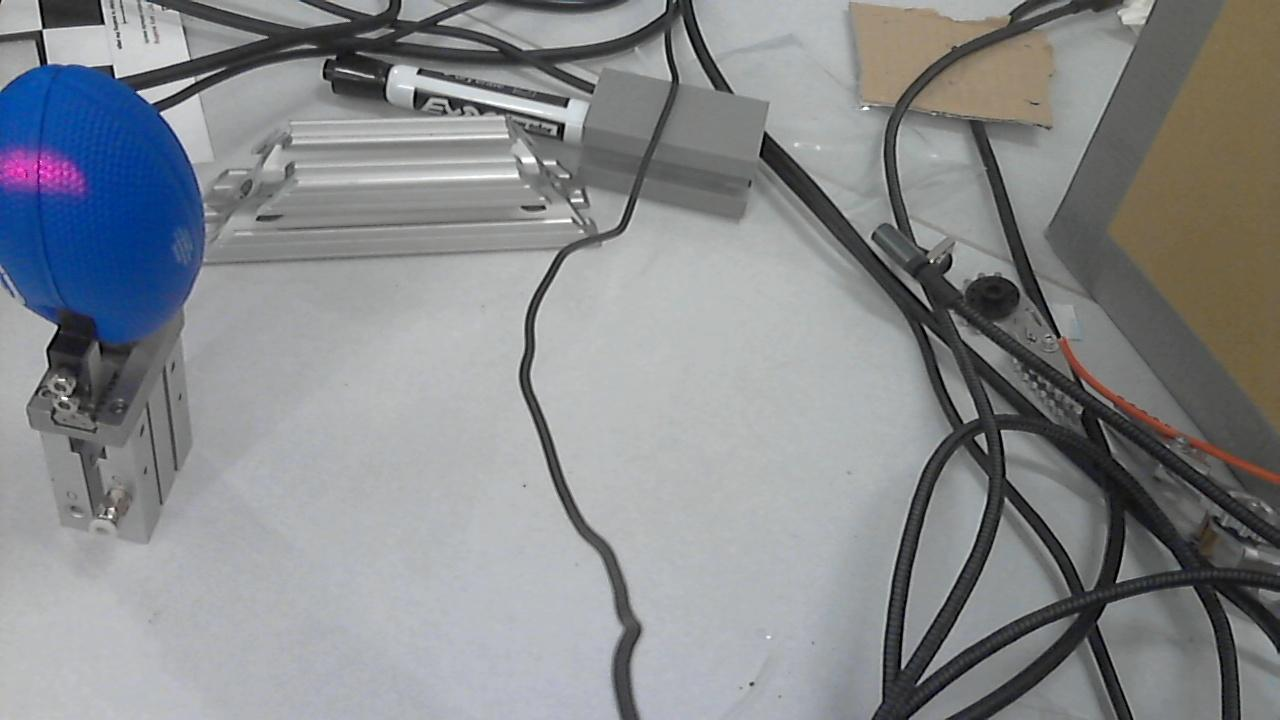Object toy football - Material foam - Color blue - Pdfname VT1ffZoLOnKv: (2, 141, 104, 208)
